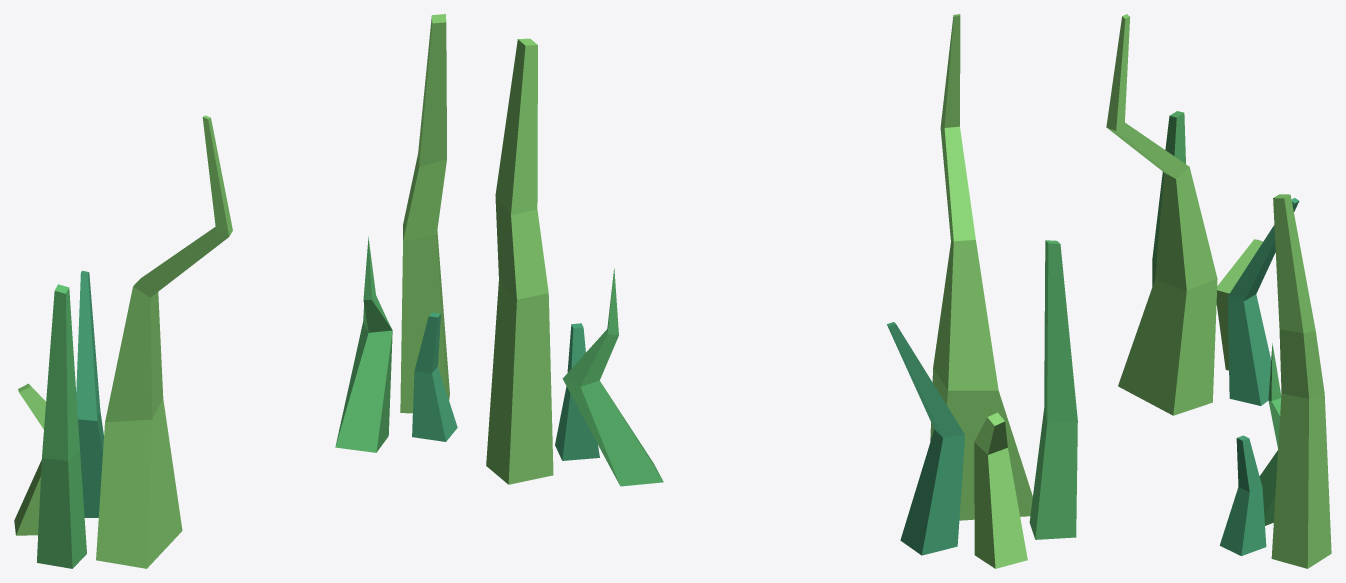
Rendered from Grass_11.fbx.
3 renders of one model, left to right at view 1: azimuth 30°, elevation 25°; view 2: azimuth 150°, elevation 25°; view 3: azimuth 270°, elevation 25°, orthographic. The views are drawn at different scales.
Parts seen in each view (by area): view 1: Grass_11; view 2: Grass_11; view 3: Grass_11.
Boxes of the visible parts, bbox=[...] form: Grass_11: bbox=[14, 14, 457, 568]; Grass_11: bbox=[486, 14, 1077, 568]; Grass_11: bbox=[1106, 14, 1331, 568].
Size of the model in its own units: 63.98 by 54.92 by 28.06.
